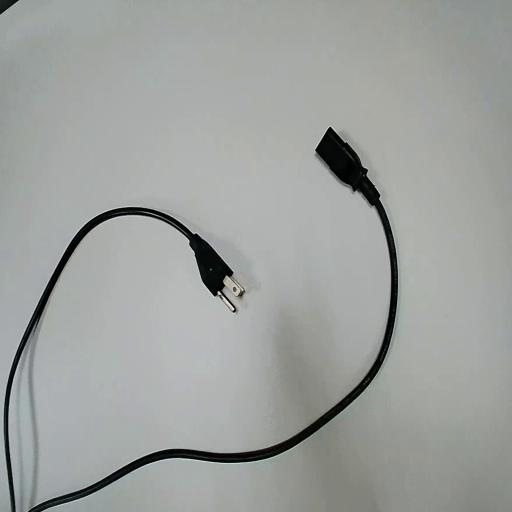wire: (30, 129, 396, 511), (5, 208, 231, 511)
